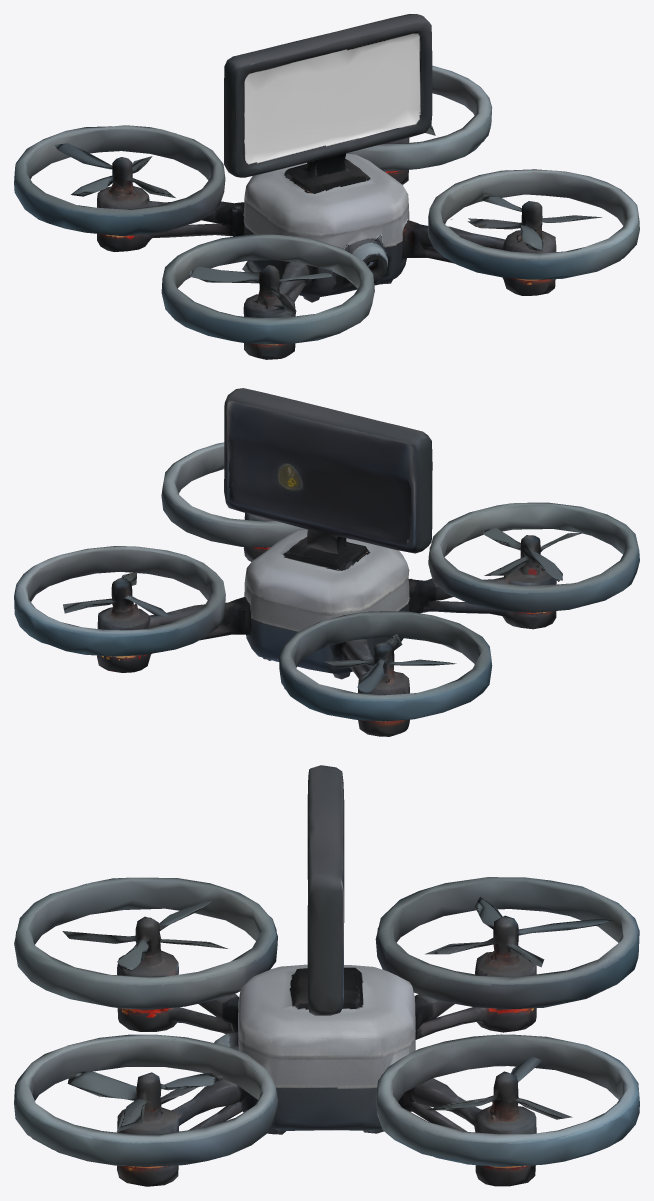
The model's file is special_MiniDrone.glb.
3 views of the same model, one above another, from view 1: azimuth 30°, elevation 25°; view 2: azimuth 150°, elevation 25°; view 3: azimuth 270°, elevation 25° (orthographic). The views are drawn at different scales.
Visible parts, largest first — view 1: world; view 2: world; view 3: world.
Part boxes in pixels (x1=…): world: x1=14, y1=14, x2=639, y2=359; world: x1=14, y1=388, x2=639, y2=736; world: x1=14, y1=765, x2=639, y2=1186.
Bounding box in the file's own units: 0.9996 × 0.511 × 0.9926.
Materials: 1 (1 with a texture image).
